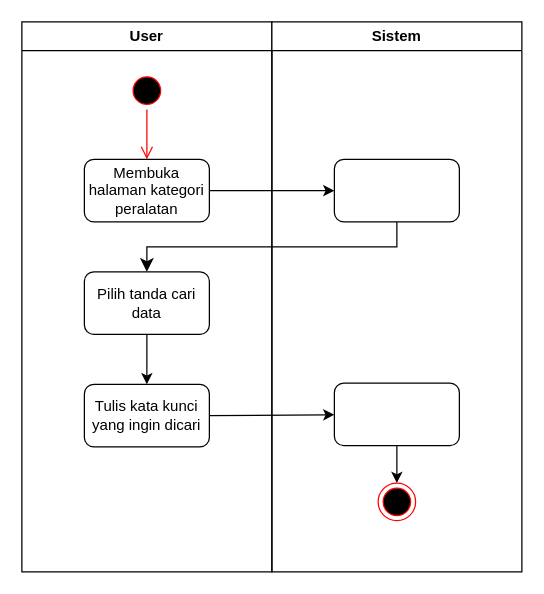
Image size: 544x594. Some labels were removed from this diagram. Here are the shapes that lost their labels. From the top down, the centre of each, then its label:
At point (396, 190): "Menampilkan halaman unit".
At point (396, 414): "Menampilkan hasil pencarian".
